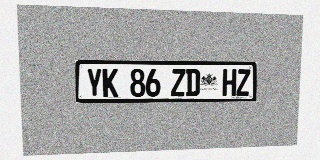6: (146, 69, 160, 97)
8: (130, 69, 145, 97)
D: (186, 69, 200, 96)
H: (222, 69, 237, 96)
K: (102, 68, 118, 97)
Y: (86, 68, 102, 97)
Z: (171, 69, 185, 96), (236, 69, 250, 96)
